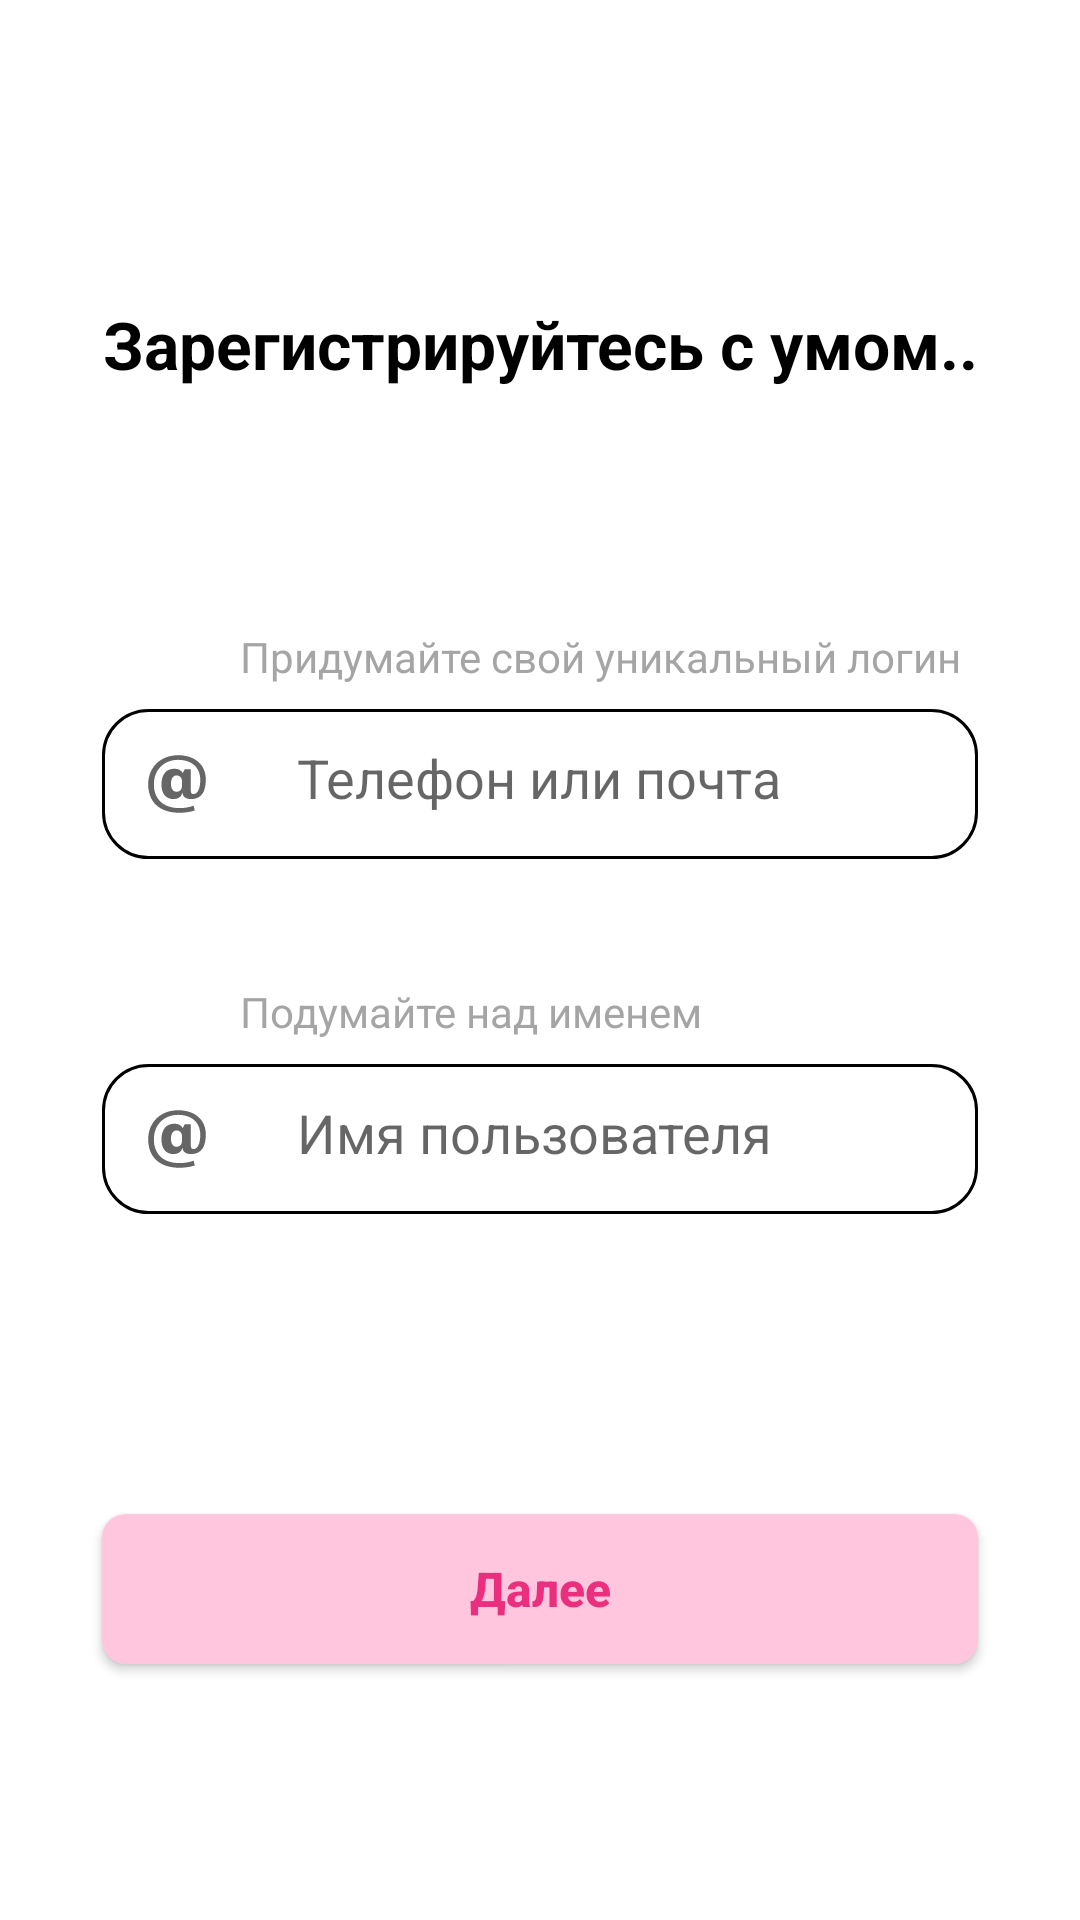

Screen size 1080 x 1920. Icon name, then its center in pixels as (x,y):
email: (177,784), (177,1139)
